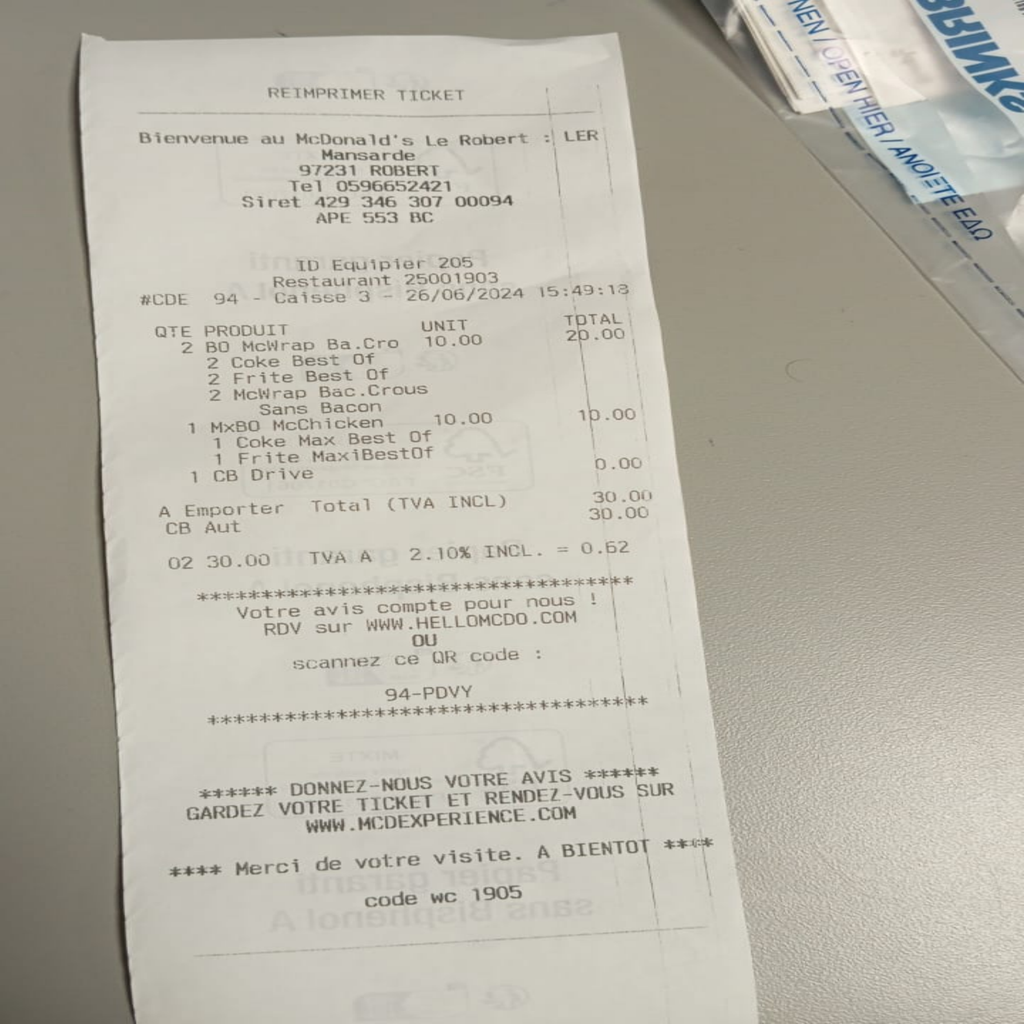recipt: (78, 27, 755, 1016)
